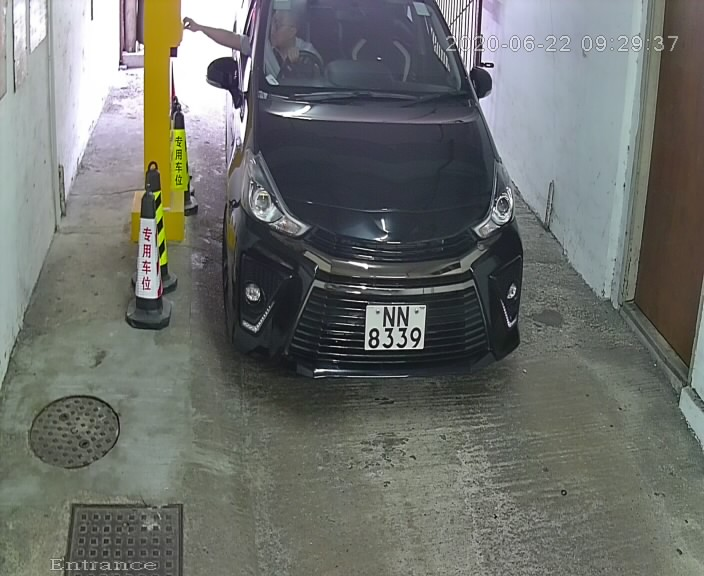privatecar: (196, 1, 554, 384)
